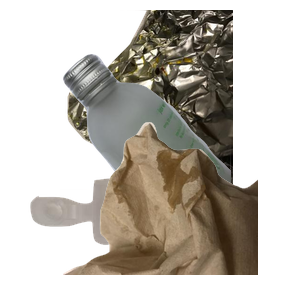glass: (60, 51, 300, 231)
metal: (60, 10, 300, 190)
plastic: (28, 176, 253, 300)
trash: (60, 120, 300, 300)
